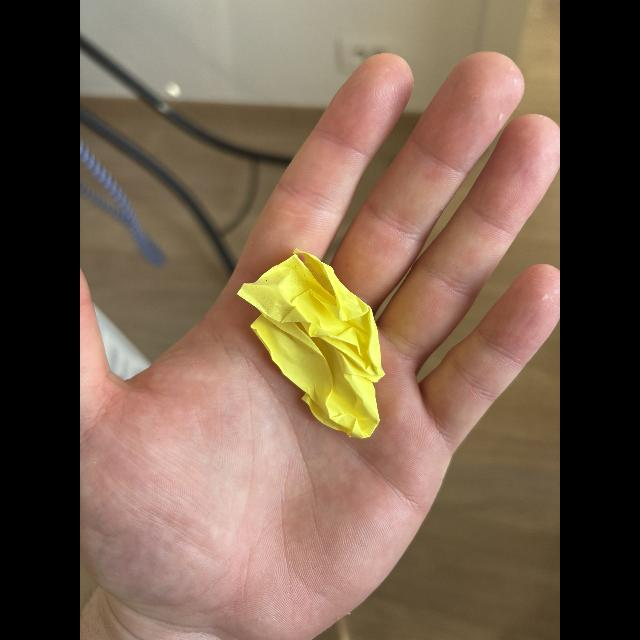Paper: (227, 246, 399, 444)
